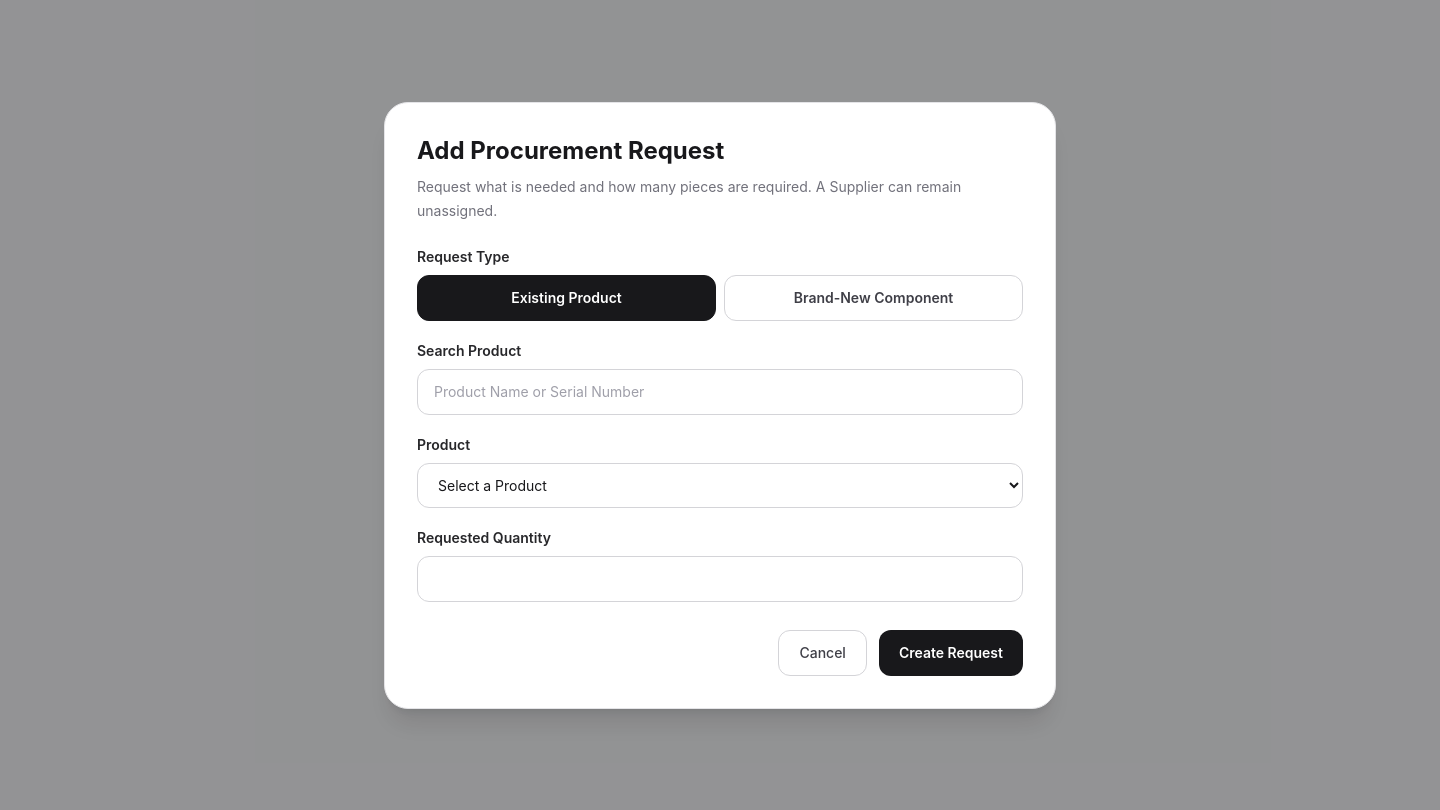
Scenario: CreateExistingProductRequestDialog › blocks duplicate submits while pending
Select "0000123 — Server Product Name" in the dropdown labelled "Product": (720, 485) x1=417 y1=462 x2=1023 y2=508
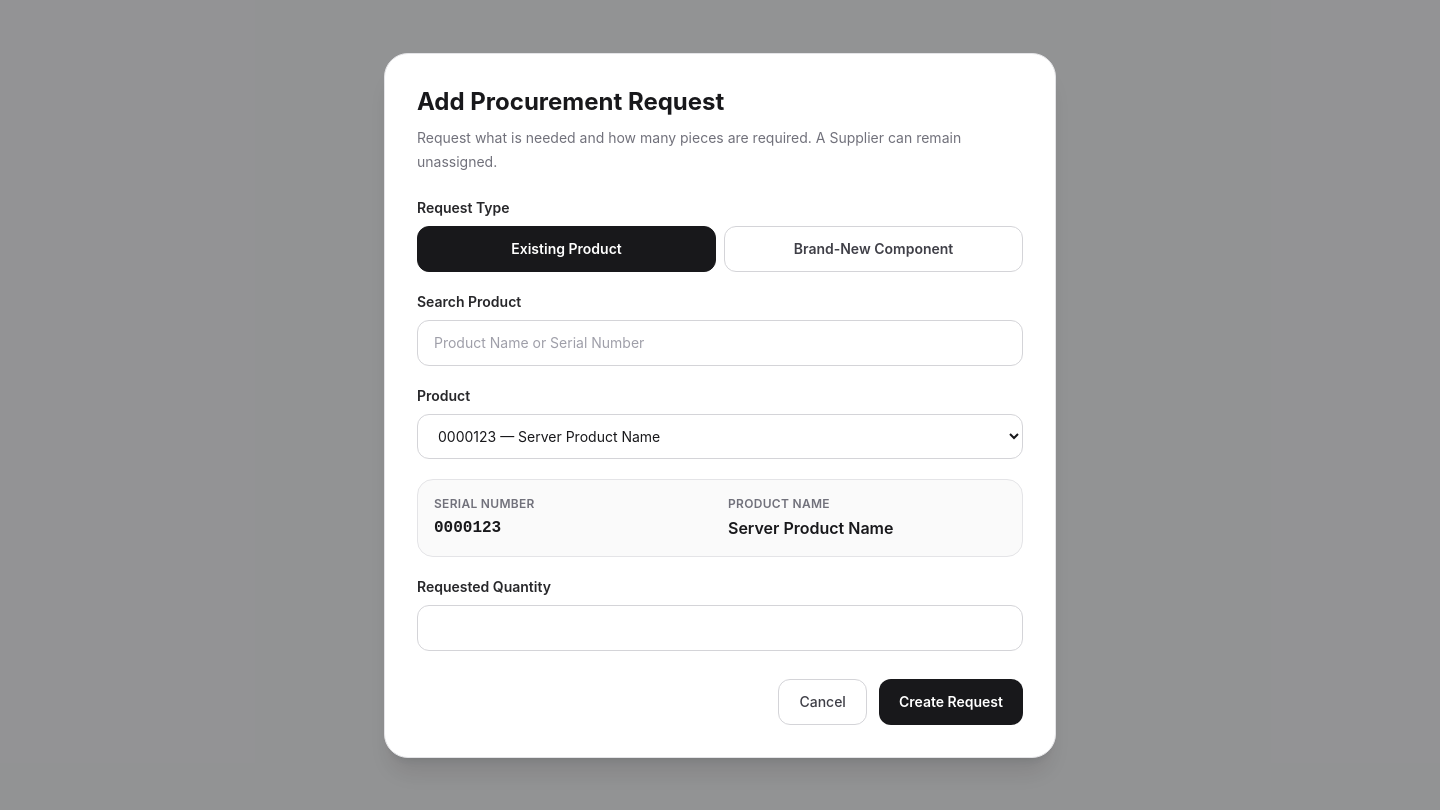
In the number field labelled "Requested Quantity": (720, 628) x1=417 y1=604 x2=1023 y2=650, type "5"
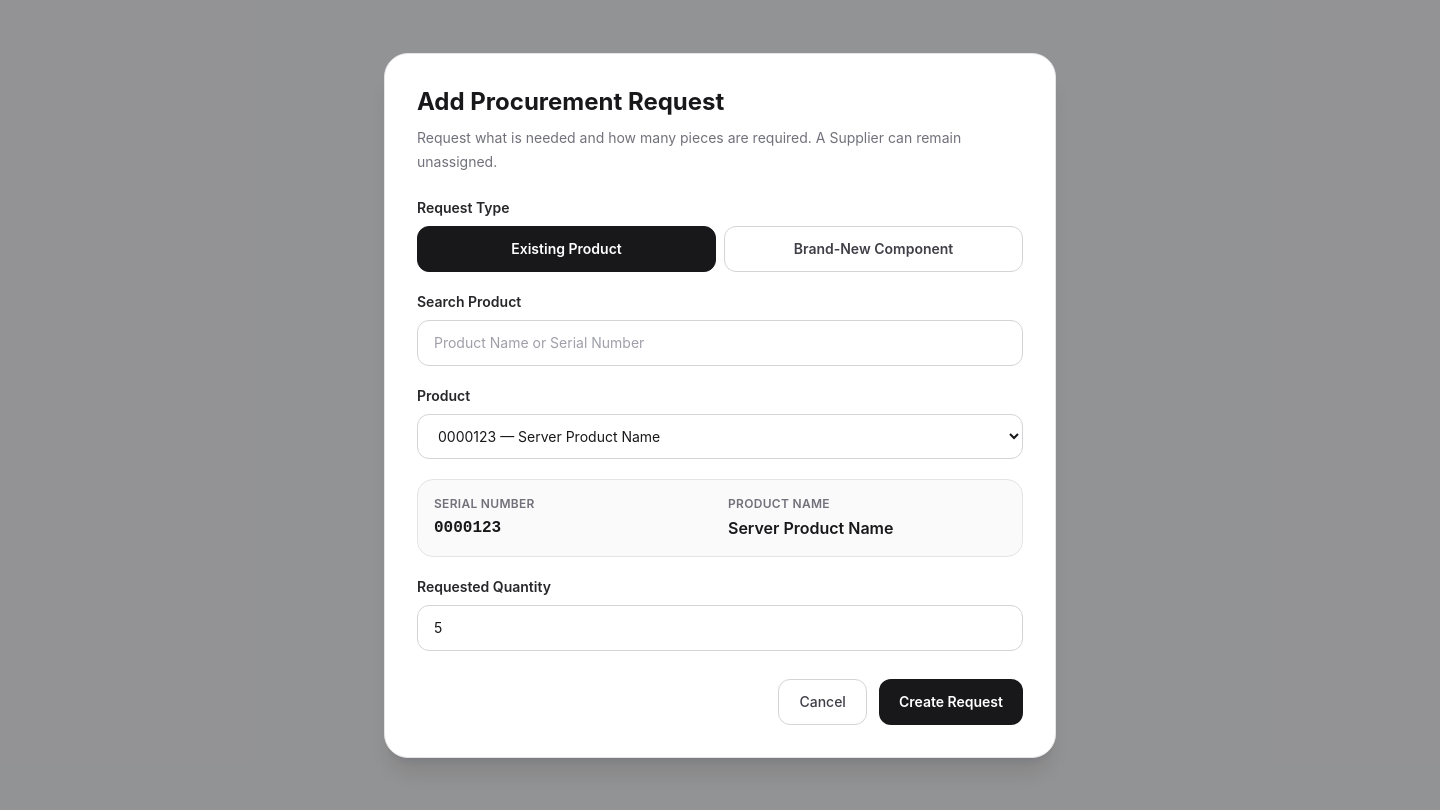
Submit the form named "Create Request", box x1=417 y1=198 x2=1023 y2=724
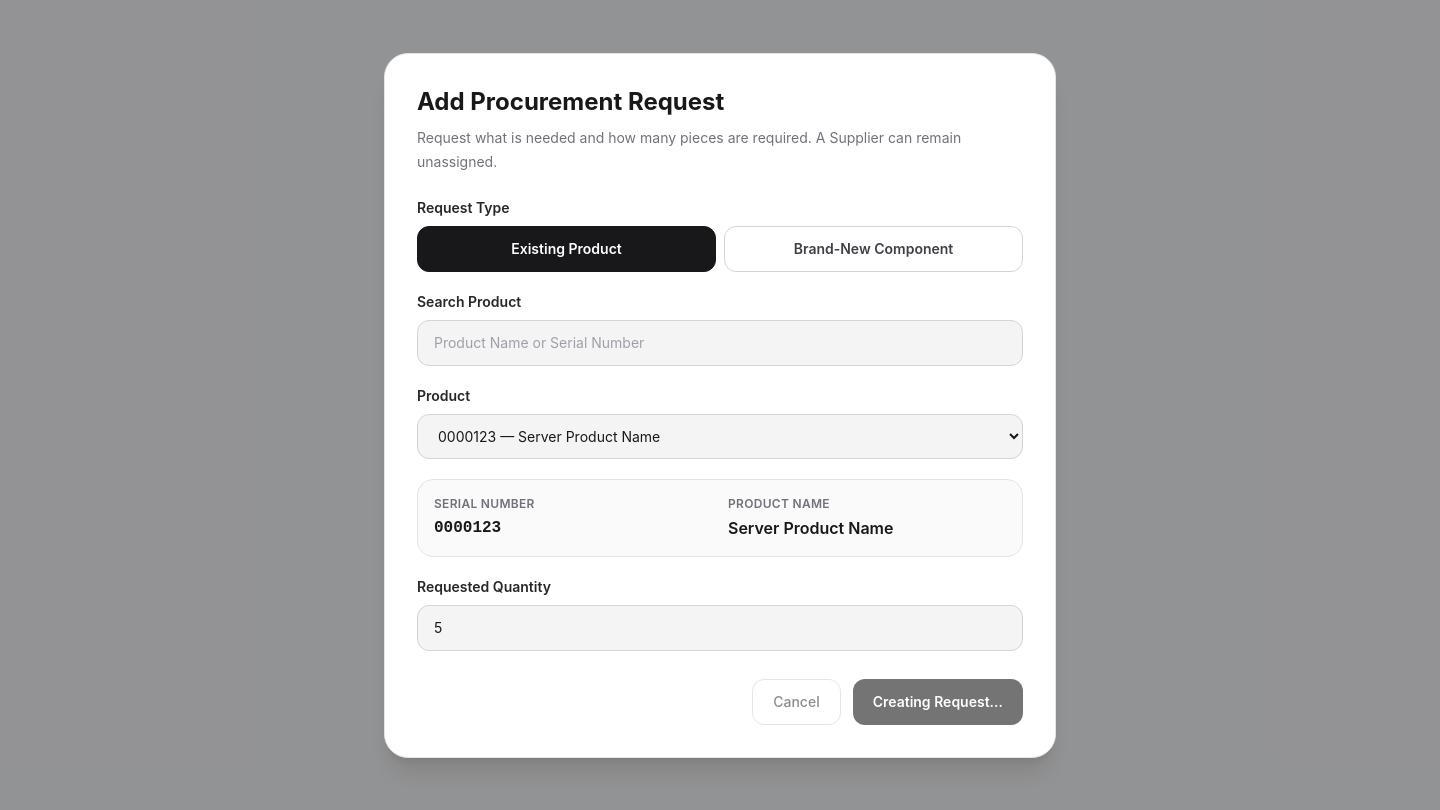
Submit the form named "Create Request", box x1=417 y1=198 x2=1023 y2=724
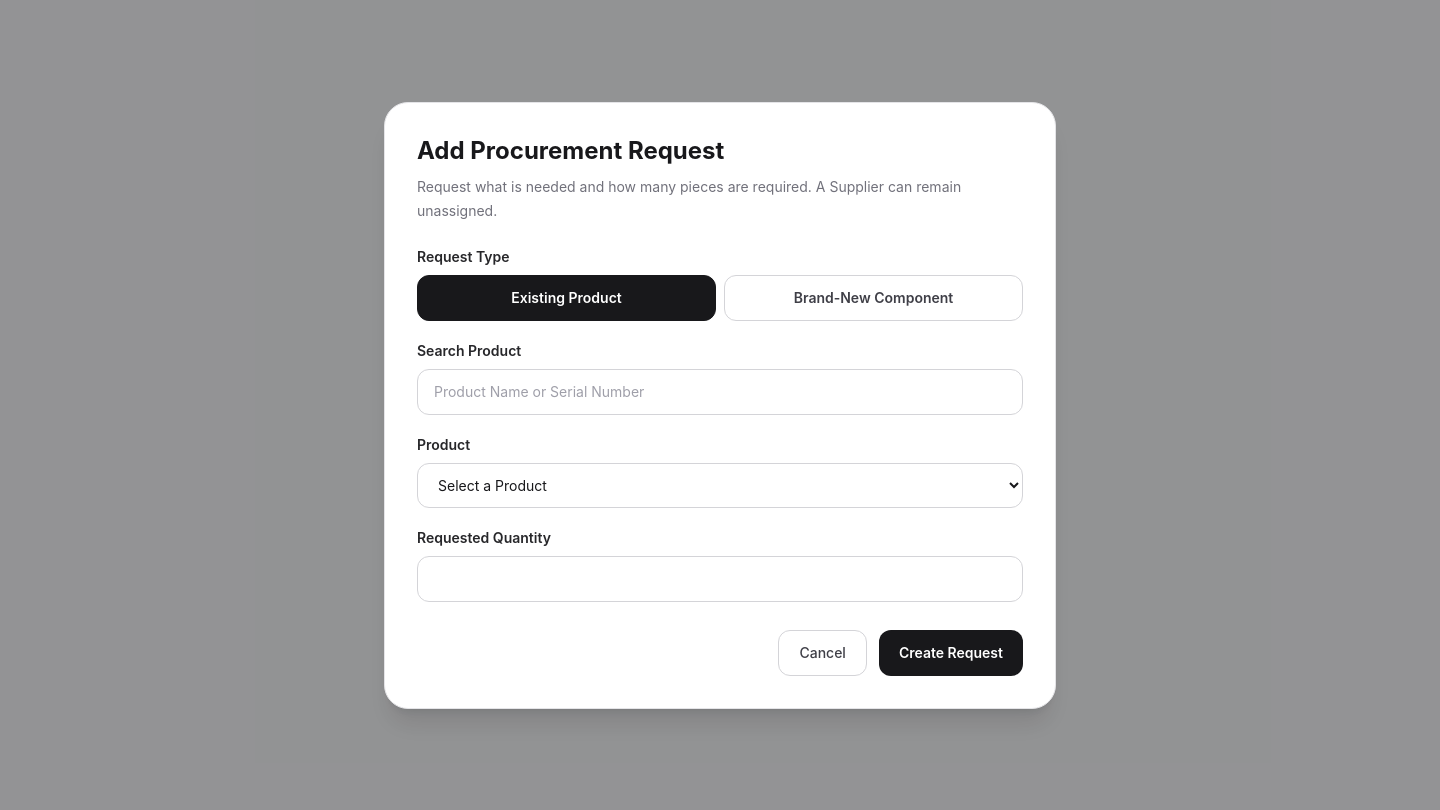
Expected: the button "Creating Request…" is gone
